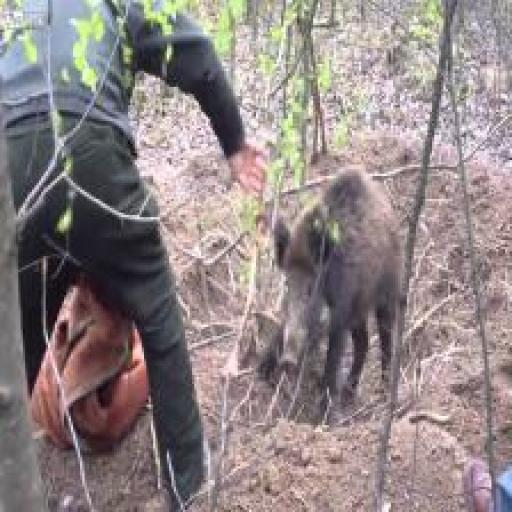Pig: (272, 167, 403, 420)
